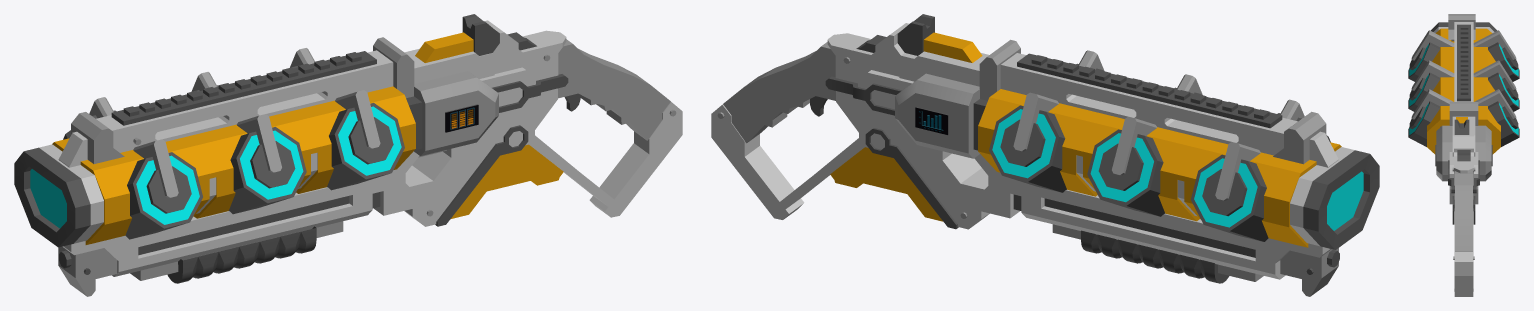
3 renders of one model, left to right at view 1: azimuth 30°, elevation 25°; view 2: azimuth 150°, elevation 25°; view 3: azimuth 270°, elevation 25°, orthographic. The views are drawn at different scales.
Parts seen in each view (by area): view 1: SM_EG01; view 2: SM_EG01; view 3: SM_EG01.
Part boxes in pixels (x1,y1,x2,y2): SM_EG01: (14,14,682,296); SM_EG01: (711,14,1379,296); SM_EG01: (1408,14,1519,296).
Size of the model in its own units: 76.87 by 26.28 by 19.7.
6 materials, 1 textured.
